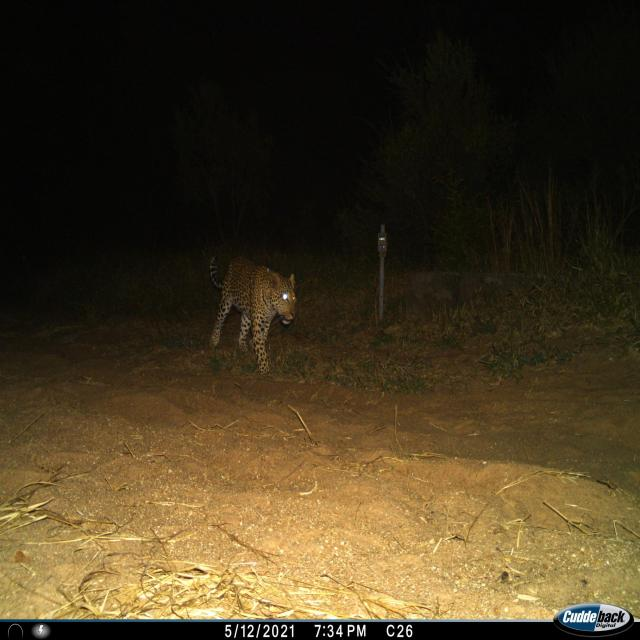Leopard: (199, 247, 304, 373)
